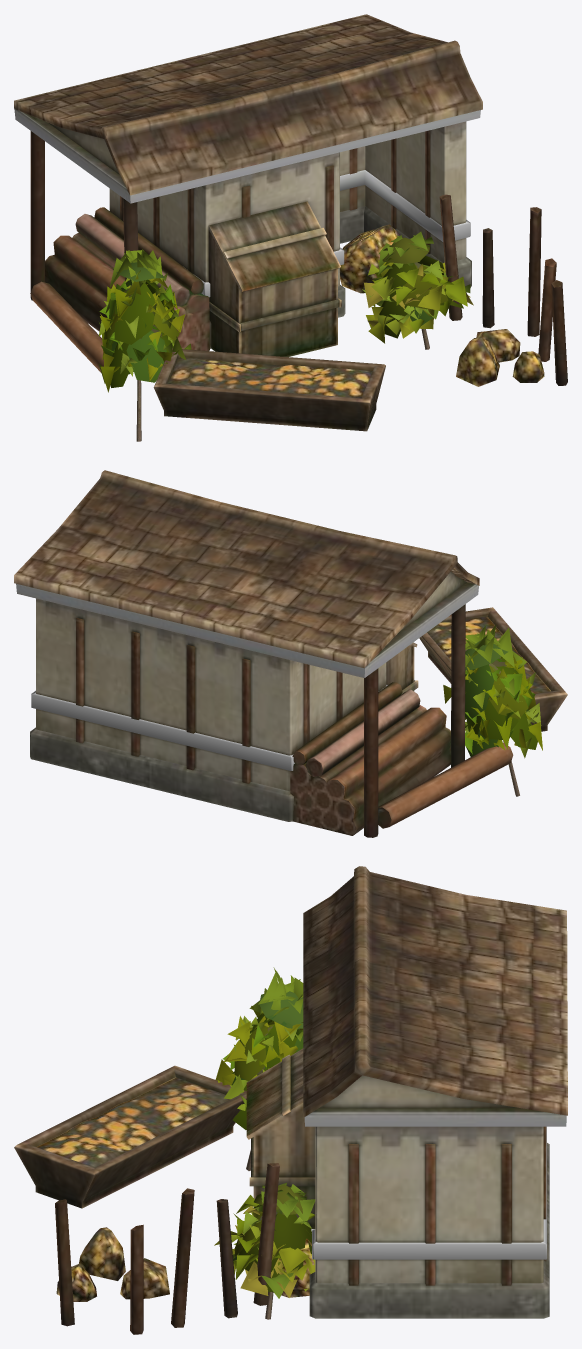
File: 14-storehouse.glb
3 renders of one model, top to bottom at view 1: azimuth 30°, elevation 25°; view 2: azimuth 150°, elevation 25°; view 3: azimuth 270°, elevation 25°, orthographic. The views are drawn at different scales.
Size of the model in its own units: 4.45 by 2.89 by 4.65.
Materials: 4 (4 with a texture image).
